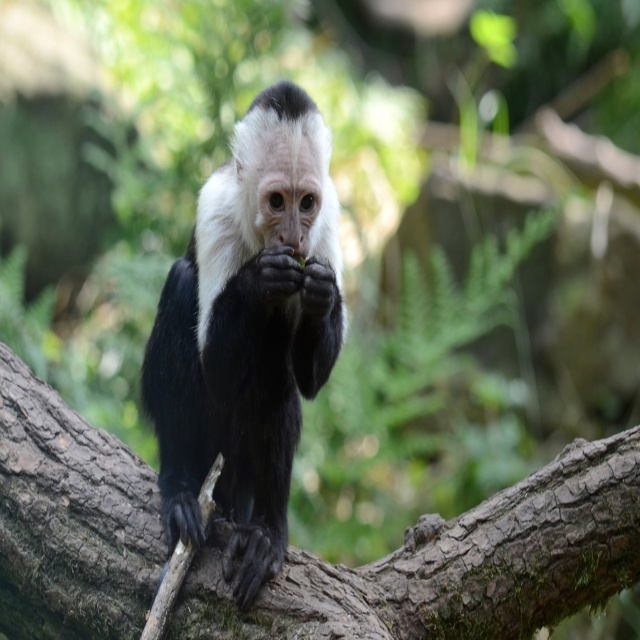Monkey: (134, 79, 353, 611)
